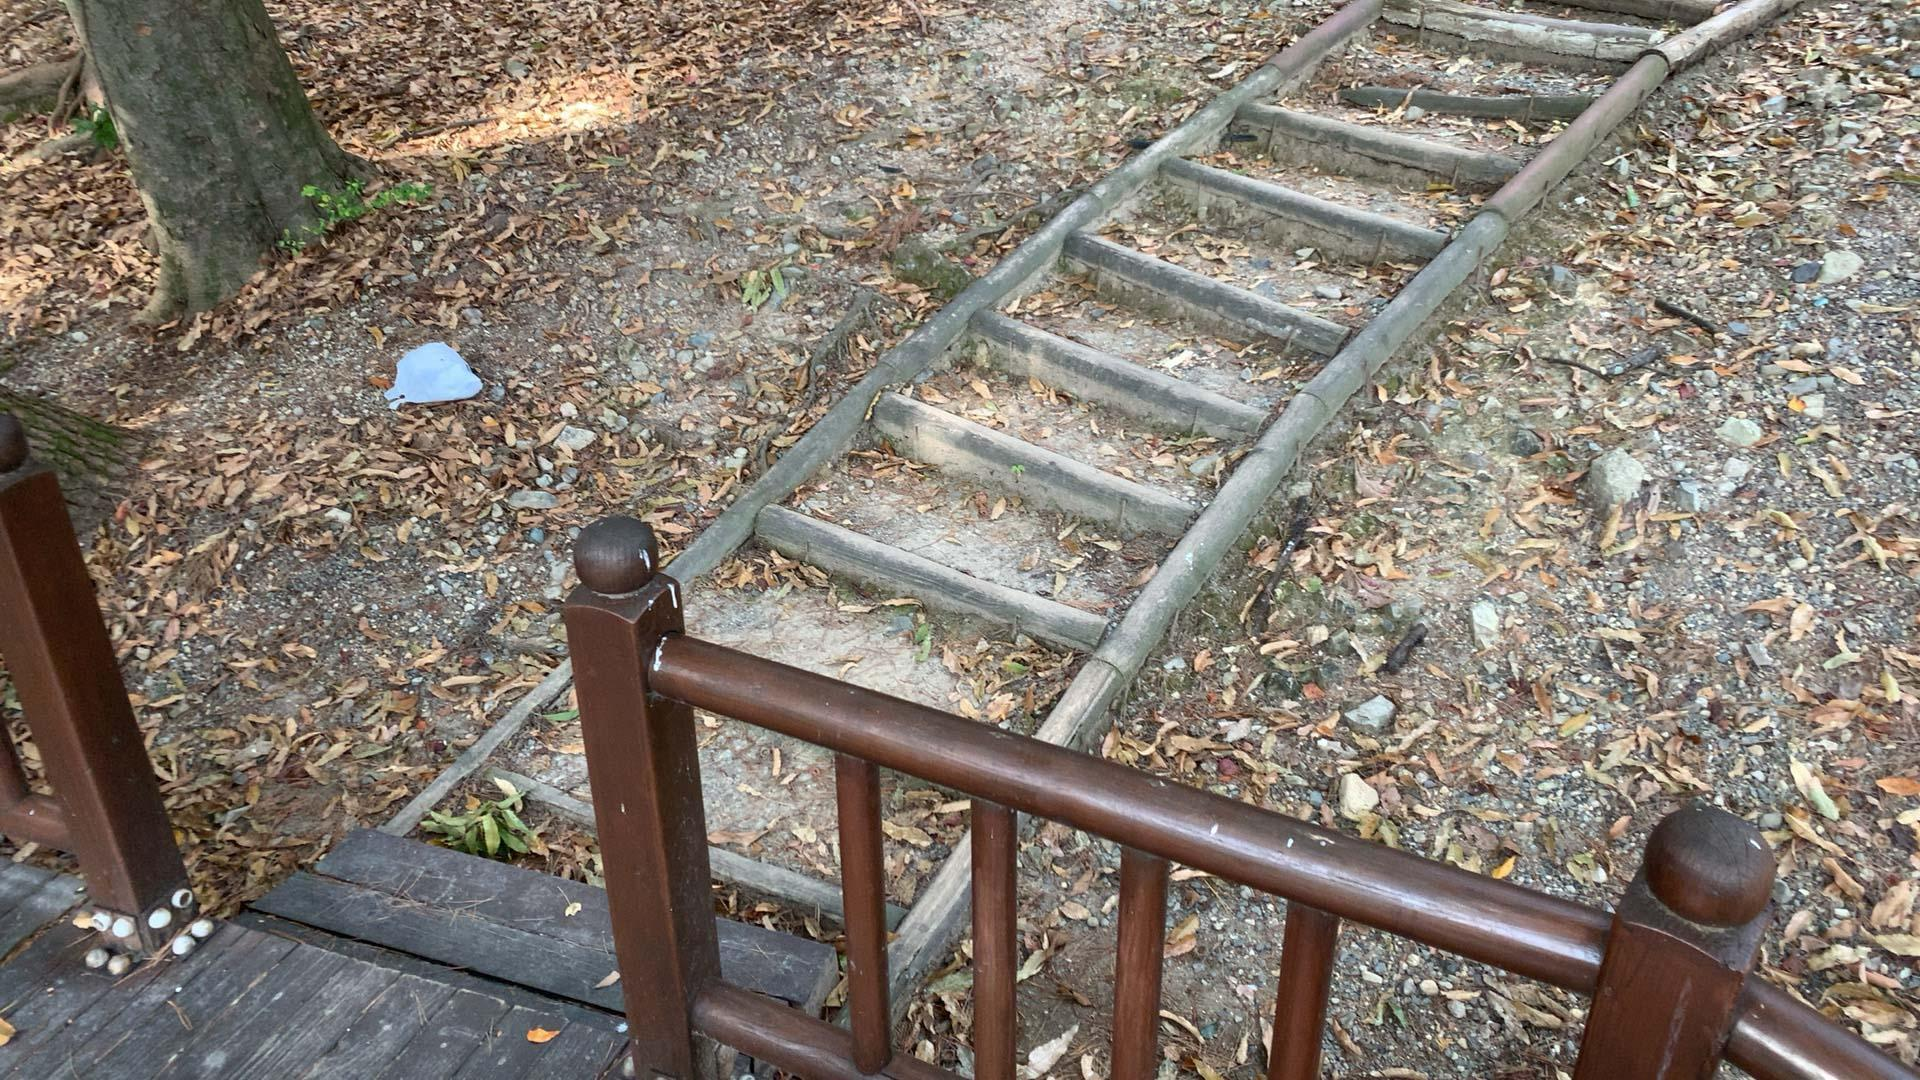white_bag: (378, 339, 488, 417)
